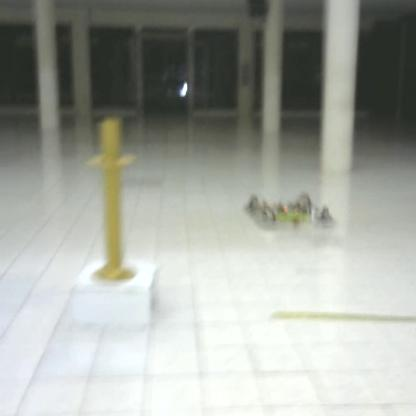pole: (83, 114, 144, 287)
